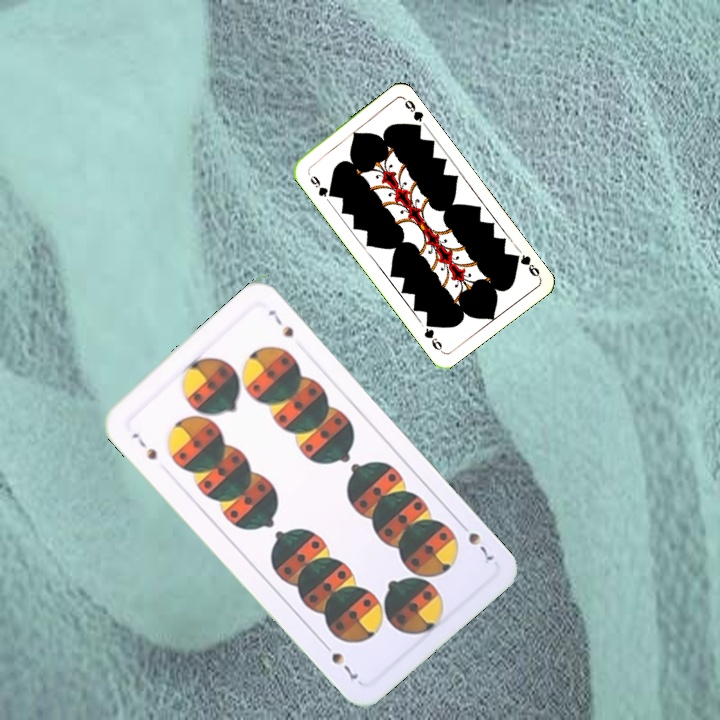G9: (303, 168, 336, 200), (508, 250, 543, 280)
S7: (454, 517, 496, 564), (127, 429, 160, 463)
